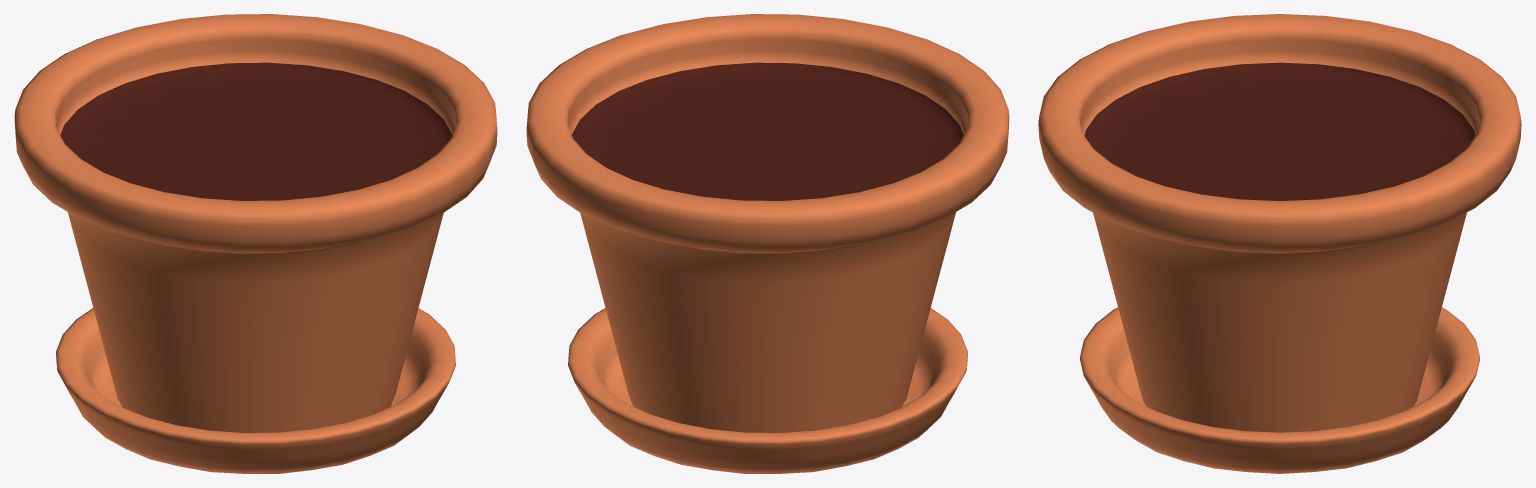
Rendered from plants_2.fbx.
The picture shows the model from 3 angles, left to right: view 1: azimuth 30°, elevation 25°; view 2: azimuth 150°, elevation 25°; view 3: azimuth 270°, elevation 25°; orthographic projection.
Parts seen in each view (by area): view 1: Pot.001; view 2: Pot.001; view 3: Pot.001.
Boxes of the visible parts, left/top/right/bottom form: Pot.001: left=14, top=14, right=497, bottom=473; Pot.001: left=526, top=14, right=1009, bottom=473; Pot.001: left=1038, top=14, right=1521, bottom=473.
Bounding box in the file's own units: 102 × 68.86 × 102.
Materials: 2 (2 with a texture image).
